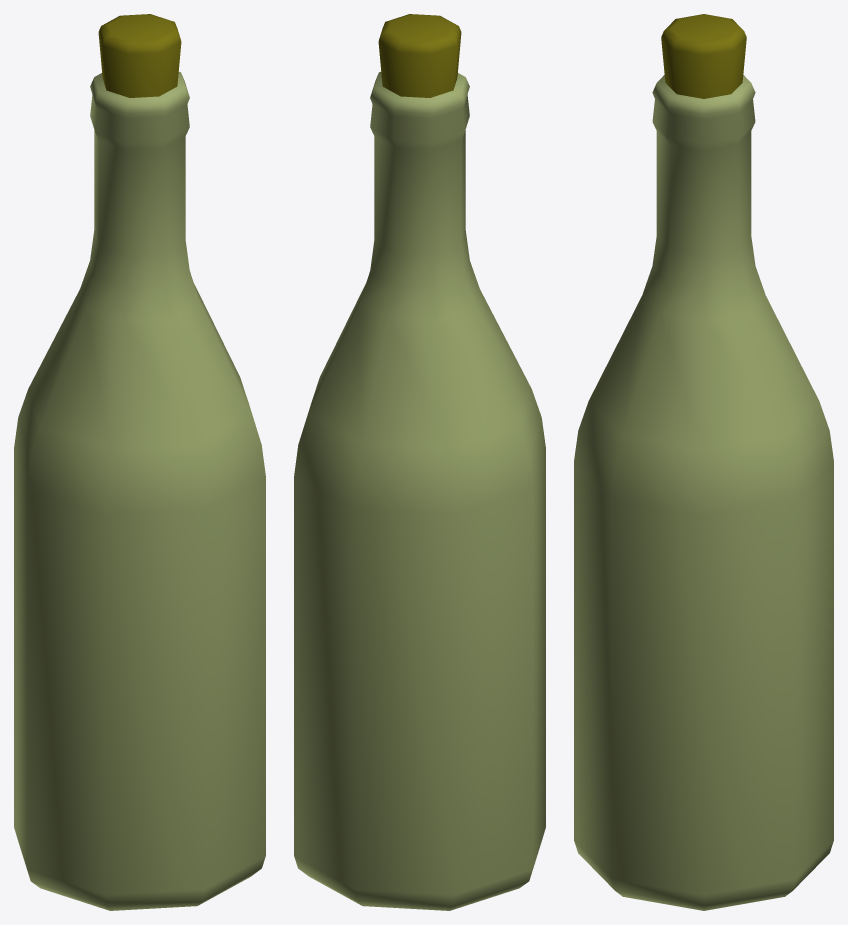
Rendered from Bottle.fbx.
The picture shows the model from 3 angles, left to right: view 1: azimuth 30°, elevation 25°; view 2: azimuth 150°, elevation 25°; view 3: azimuth 270°, elevation 25°; orthographic projection.
Parts seen in each view (by area): view 1: Cylinder, Cylinder.001; view 2: Cylinder, Cylinder.001; view 3: Cylinder, Cylinder.001.
Boxes of the visible parts, <box> form: Cylinder: <box>14,71,265,910</box>; Cylinder.001: <box>98,14,181,97</box>; Cylinder: <box>294,71,545,910</box>; Cylinder.001: <box>378,14,461,97</box>; Cylinder: <box>574,75,833,910</box>; Cylinder.001: <box>661,14,746,98</box>.
Size of the model in its own units: 200 by 711 by 200.
